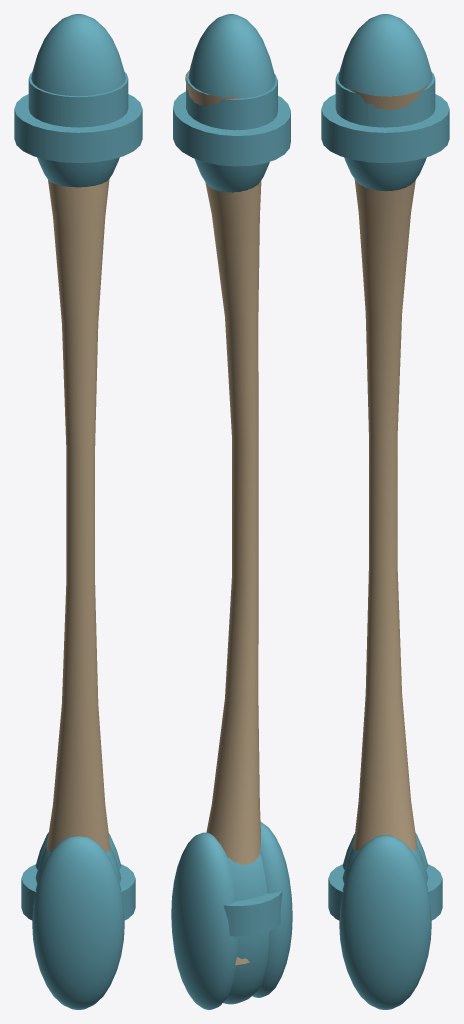
Rendered from right_radius.glb.
The picture shows the model from 3 angles, left to right: view 1: azimuth 90°, elevation 25°; view 2: azimuth 210°, elevation 25°; view 3: azimuth 270°, elevation 25°; orthographic projection.
Visible parts, largest first — view 1: right_radius:diaphysis, right_radius:condyle--1, right_radius:proximal-envelope, right_radius:proximal-epiphyseal-plate, right_radius:radial-head, right_radius:distal-epiphyseal-plate, right_radius:distal-envelope; view 2: right_radius:diaphysis, right_radius:condyle-1, right_radius:proximal-envelope, right_radius:proximal-epiphyseal-plate, right_radius:condyle--1, right_radius:distal-envelope, right_radius:radial-head, right_radius:distal-epiphyseal-plate; view 3: right_radius:diaphysis, right_radius:condyle-1, right_radius:proximal-envelope, right_radius:proximal-epiphyseal-plate, right_radius:radial-head, right_radius:distal-epiphyseal-plate, right_radius:distal-envelope.
Part boxes in pixels (<box>): right_radius:diaphysis: <box>46,179,110,852</box>; right_radius:condyle--1: <box>32,836,124,1009</box>; right_radius:proximal-envelope: <box>31,14,125,187</box>; right_radius:proximal-epiphyseal-plate: <box>14,94,142,162</box>; right_radius:radial-head: <box>28,72,128,127</box>; right_radius:distal-epiphyseal-plate: <box>21,864,135,920</box>; right_radius:distal-envelope: <box>35,845,121,883</box>; right_radius:diaphysis: <box>185,70,261,965</box>; right_radius:condyle-1: <box>171,832,237,1009</box>; right_radius:proximal-envelope: <box>188,14,275,192</box>; right_radius:proximal-epiphyseal-plate: <box>173,91,290,166</box>; right_radius:condyle--1: <box>252,822,292,997</box>; right_radius:distal-envelope: <box>223,853,269,1004</box>; right_radius:radial-head: <box>186,73,277,130</box>; right_radius:distal-epiphyseal-plate: <box>223,891,282,936</box>; right_radius:diaphysis: <box>348,84,427,850</box>; right_radius:condyle-1: <box>339,835,431,1009</box>; right_radius:proximal-envelope: <box>338,14,432,191</box>; right_radius:proximal-epiphyseal-plate: <box>321,94,449,162</box>; right_radius:radial-head: <box>335,72,435,127</box>; right_radius:distal-epiphyseal-plate: <box>328,864,442,920</box>; right_radius:distal-envelope: <box>342,846,428,883</box>.
Bounding box in the file's own units: 0.0735 × 0.6615 × 0.0784.
